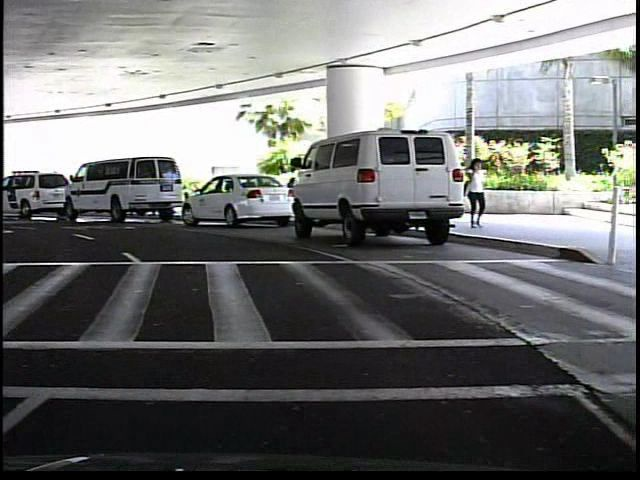person: (464, 154, 489, 226)
